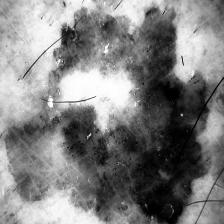Benign Marking or Mole: (7, 4, 220, 219)
